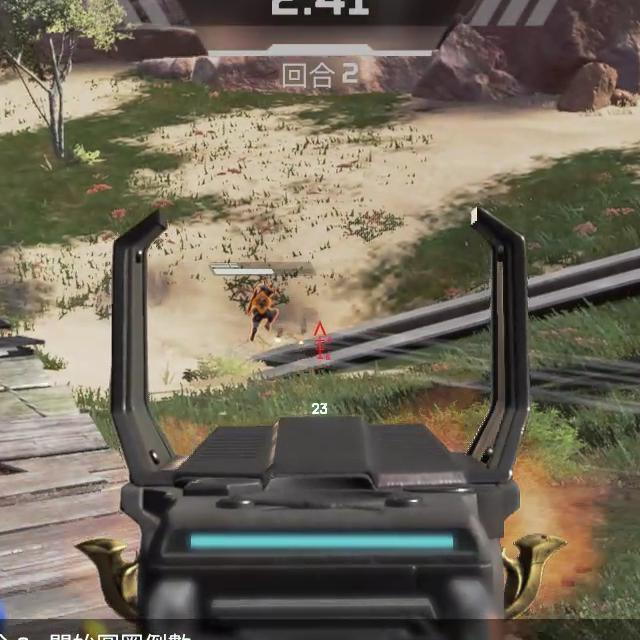avatar: (245, 283, 280, 342)
object: (251, 290, 273, 314)
